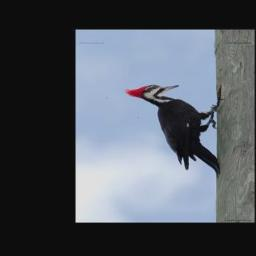Woodpecker: (124, 84, 224, 177)
